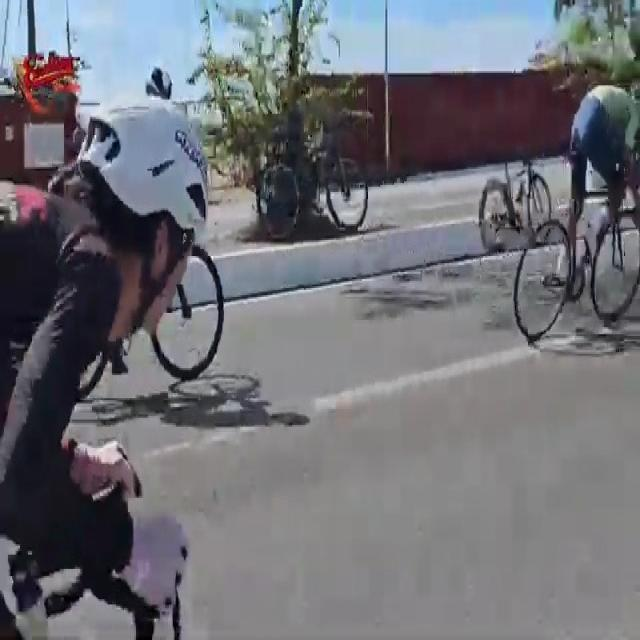bike: (0, 91, 206, 638), (53, 65, 228, 398), (510, 80, 640, 346), (256, 118, 369, 246), (474, 140, 556, 263)
